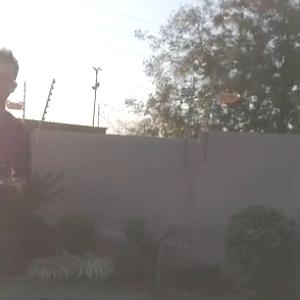follow: (0, 47, 31, 299)
